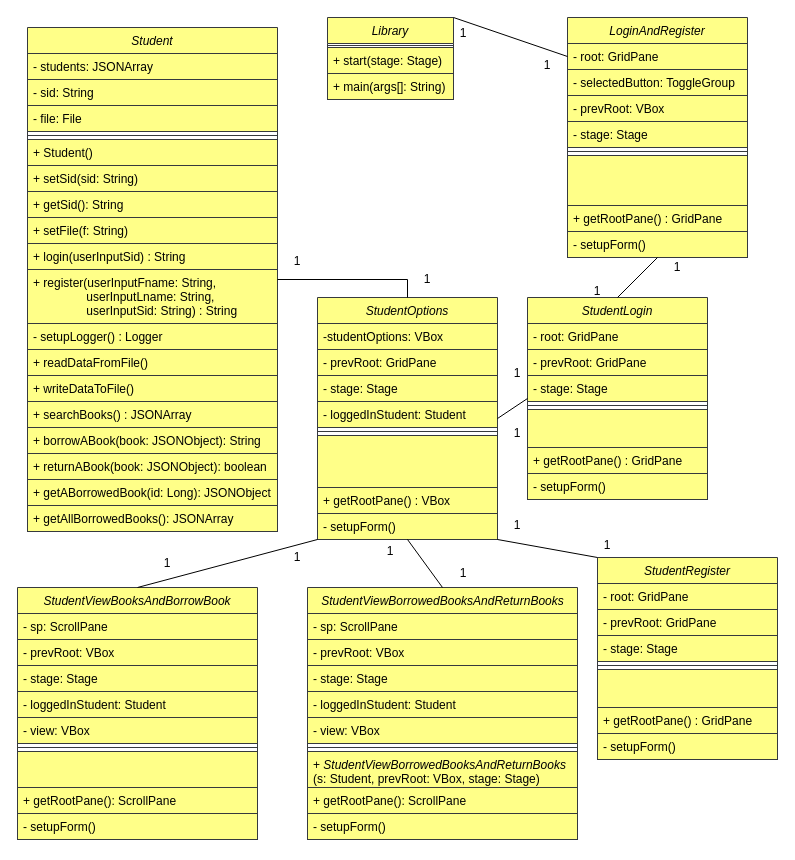
Image size: 795x860. Some labels were removed from this diagram. Each missing label, with the centre of its shape:
+ LoginAndRegister (selectedButton: ToggleGroup, root: VBox, stage: Stage): the point at 657,180
+ StudentLogin (root: GridPane, stage: Stage): the point at 617,428
+ StudentOptions (s: Student, root: GridPane, stage: Stage): the point at 407,461
+ StudentRegister (root: GridPane, stage: Stage): the point at 687,688
+ StudentViewBooksAndBorrowBook (s: Student, prevRoot: VBox, stage: Stage): the point at 137,769
